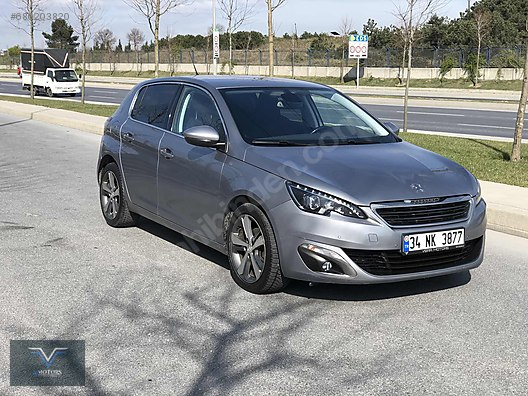peugeot: (95, 51, 495, 300)
